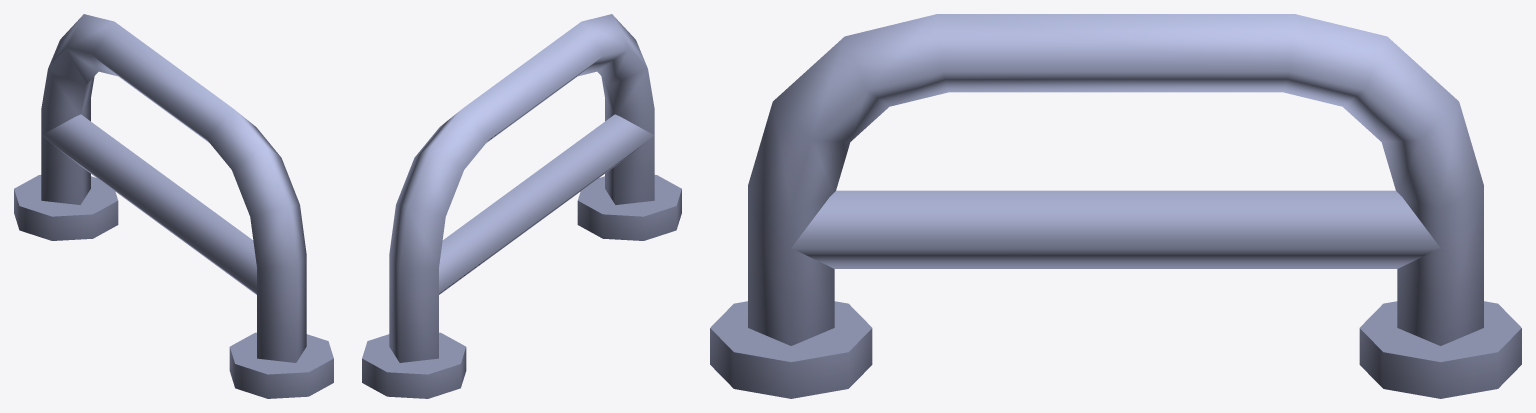
3 views of the same model, side by side, from view 1: azimuth 30°, elevation 25°; view 2: azimuth 150°, elevation 25°; view 3: azimuth 270°, elevation 25° (orthographic). The views are drawn at different scales.
Parts seen in each view (by area): view 1: construction-fence; view 2: construction-fence; view 3: construction-fence.
Part boxes in pixels (left/top/right/bottom): construction-fence: left=14, top=14, right=333, bottom=398; construction-fence: left=362, top=14, right=681, bottom=398; construction-fence: left=710, top=14, right=1521, bottom=398.
Bounding box in the file's own units: 0.801 × 1.91 × 4.
1 material, 1 textured.
